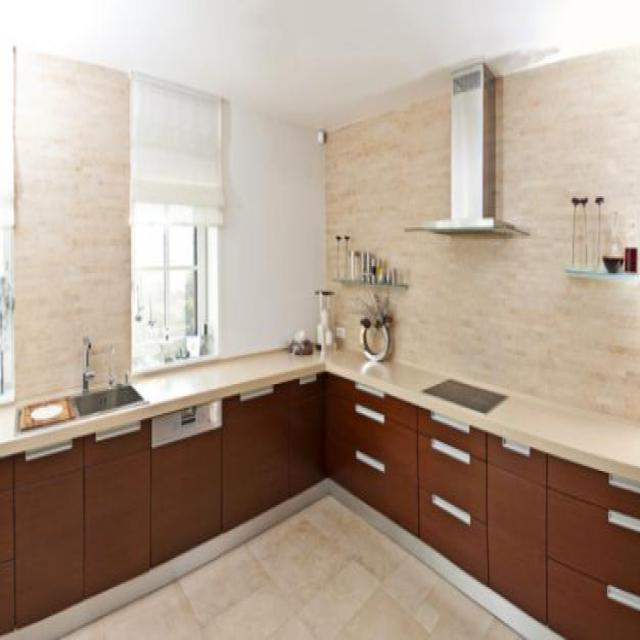dishwasher: (150, 398, 222, 566)
